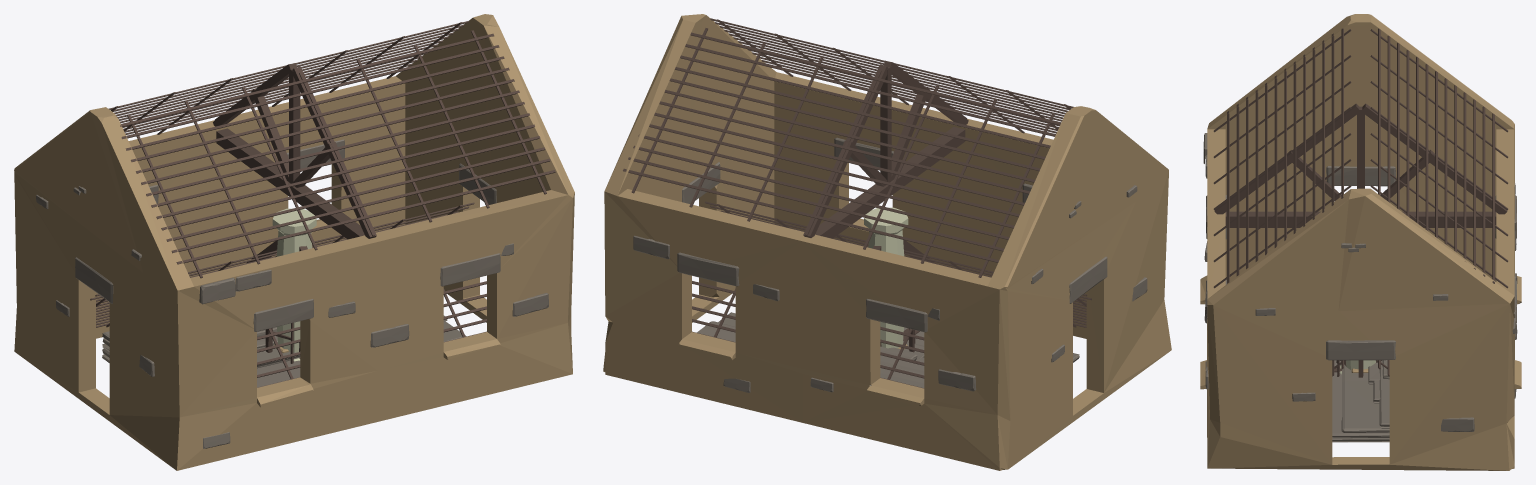
File: Ruins.fbx
3 views of the same model, side by side, from view 1: azimuth 30°, elevation 25°; view 2: azimuth 150°, elevation 25°; view 3: azimuth 270°, elevation 25° (orthographic). The views are drawn at different scales.
Parts seen in each view (by area): view 1: Ruin_02, Roof_01, Strair_03, Roof_02, column_01; view 2: Ruin_02, Roof_02, Roof_01, Strair_03, column_01; view 3: Ruin_02, Strair_03.
Boxes of the visible parts, x1,y1,x2,y2 form: Ruin_02: (14, 14, 574, 470); Roof_01: (90, 202, 486, 379); Strair_03: (102, 315, 466, 387); Roof_02: (96, 205, 486, 387); column_01: (272, 208, 316, 256); Ruin_02: (603, 14, 1171, 470); Roof_02: (692, 204, 1091, 382); Roof_01: (692, 201, 1091, 388); Strair_03: (697, 312, 1079, 387); column_01: (864, 207, 908, 256); Ruin_02: (1200, 14, 1521, 470); Strair_03: (1332, 360, 1389, 442).
Bounding box in the file's own units: 706 × 493 × 523.
4 materials, 4 textured.
